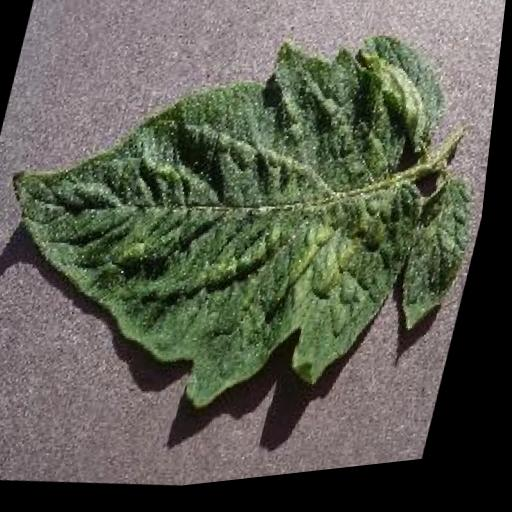Spider Mites: (0, 0, 509, 464)
